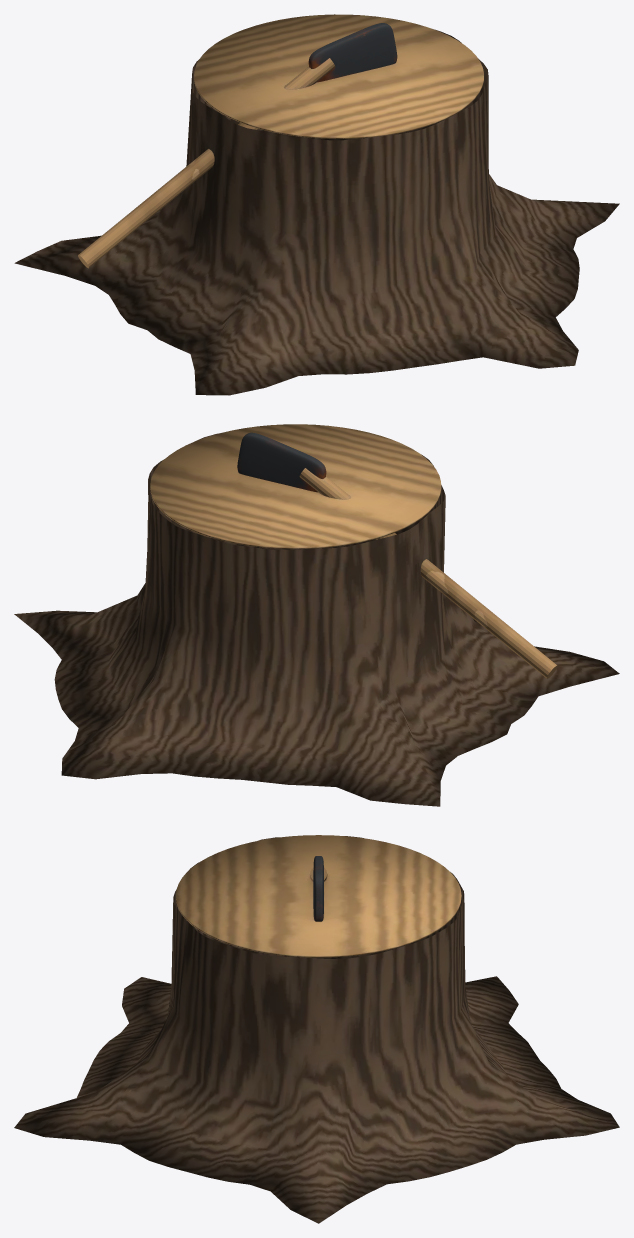
File: with-axe.glb
The picture shows the model from 3 angles, top to bottom: view 1: azimuth 30°, elevation 25°; view 2: azimuth 150°, elevation 25°; view 3: azimuth 270°, elevation 25°; orthographic projection.
Parts seen in each view (by area): view 1: bark, endgrain, wood_v, steel_axe; view 2: bark, endgrain, wood_v, steel_axe; view 3: bark, endgrain, steel_axe.
Boxes of the visible parts, left/top/right/bottom form: bark: left=14, top=29, right=619, bottom=395; endgrain: left=194, top=14, right=483, bottom=138; wood_v: left=78, top=58, right=335, bottom=268; steel_axe: left=308, top=23, right=397, bottom=82; bark: left=14, top=433, right=619, bottom=806; endgrain: left=150, top=424, right=441, bottom=549; wood_v: left=299, top=468, right=557, bottom=678; steel_axe: left=237, top=432, right=326, bottom=492; bark: left=14, top=836, right=619, bottom=1223; endgrain: left=176, top=835, right=461, bottom=957; steel_axe: left=313, top=856, right=323, bottom=921.
Size of the model in its own units: 1.16 by 0.489 by 1.15.
Materials: 4 (4 with a texture image).
